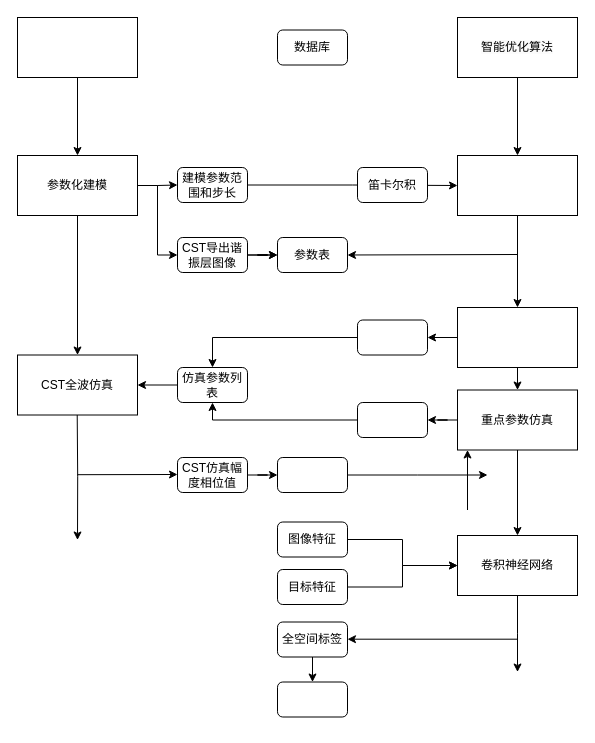
The diagram is 595 pixels wide and 743 high, and some of its shapes have lost their labels. The shapes that lost their labels are listed below. From the top down, each one's box as (x1, y1, x2, y2) in pixels, then its label:
(16, 16, 138, 78): CST周期性仿真
(456, 154, 578, 216): 参数空间构建构建
(356, 319, 428, 355): 随机参数列表
(456, 306, 578, 368): 随机初值仿真
(356, 402, 428, 438): 特征参数列表
(276, 456, 348, 492): 目标函数数据标签
(276, 681, 348, 717): 结束
